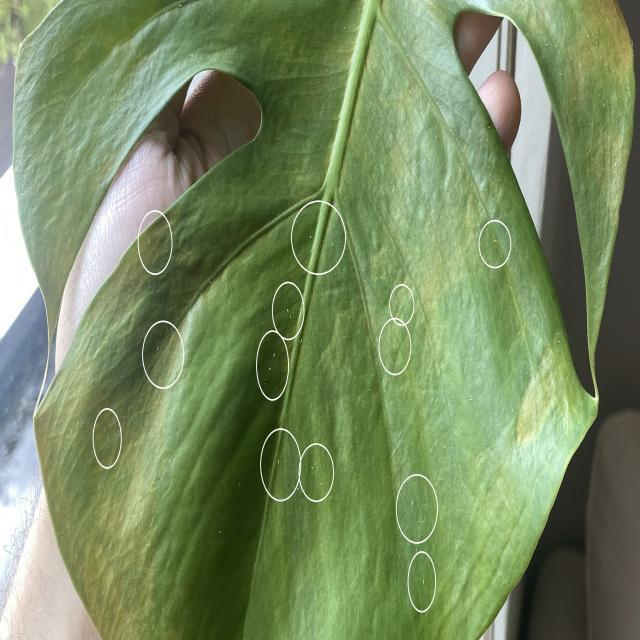Thrips: (137, 305, 185, 391), (398, 443, 439, 533), (475, 178, 521, 257), (300, 423, 336, 513), (258, 425, 294, 509), (401, 560, 440, 637), (299, 210, 344, 275), (90, 391, 118, 476), (385, 305, 408, 389), (262, 320, 284, 402), (277, 288, 300, 345), (140, 202, 162, 258), (391, 285, 418, 327)
